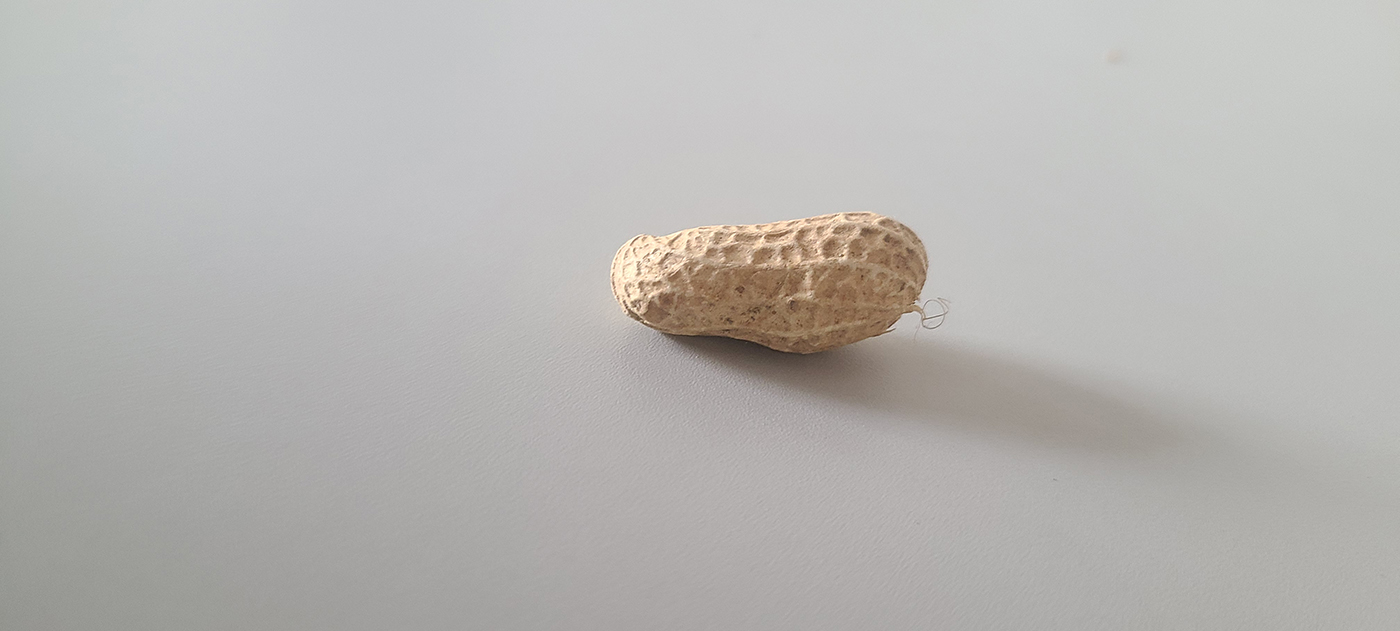h: (609, 209, 930, 352)
